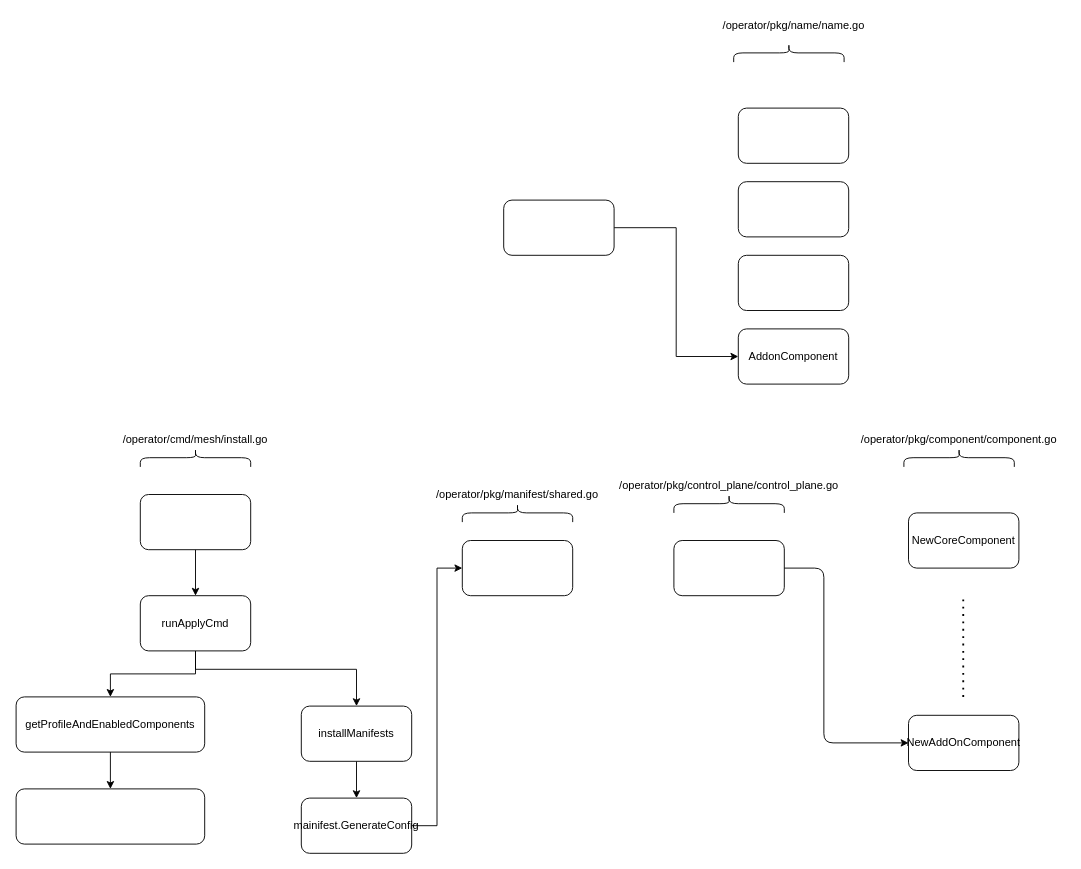
Image size: 1081x869. Some labels were removed from this diagram. Here are the shapes that lost their labels. From the top down, the centre of each, then its label:
(x=195, y=522): InstallCmd
(x=517, y=568): GenerateConfig
(x=728, y=568): NewIstioControlPlane
(x=110, y=816): corecomponenents
